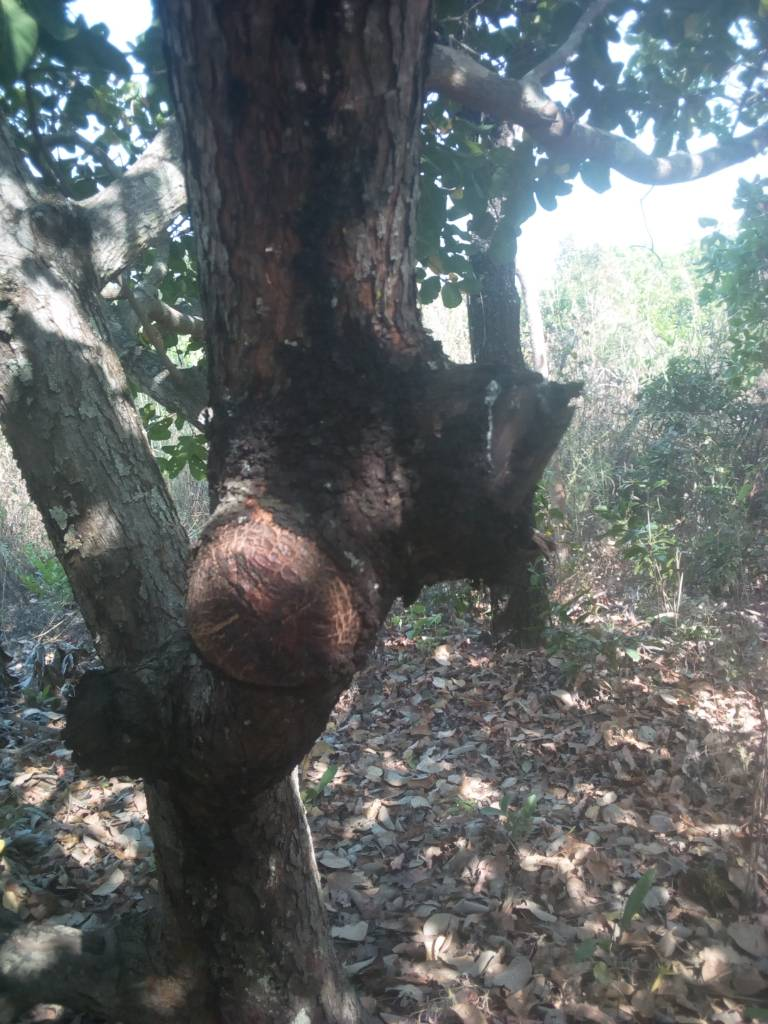Termites: (222, 86, 410, 557)
